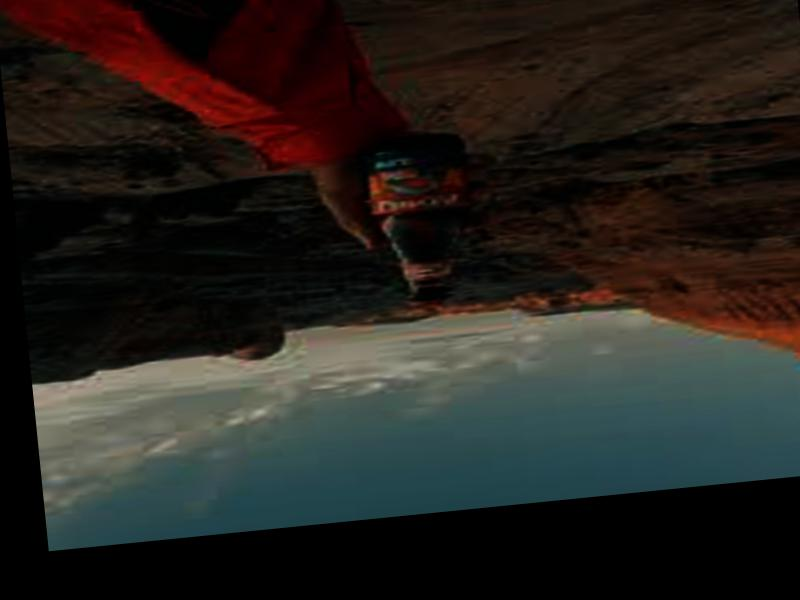Beer: (351, 132, 484, 308)
